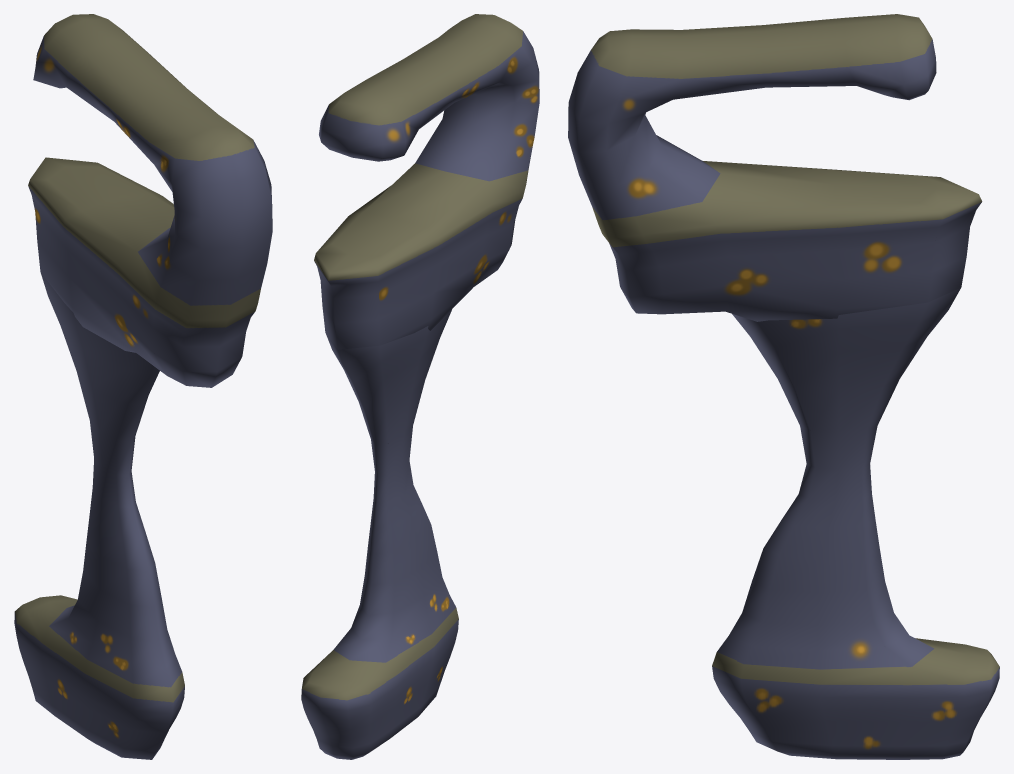
Rendered from Platforms.glb.
3 renders of one model, left to right at view 1: azimuth 30°, elevation 25°; view 2: azimuth 150°, elevation 25°; view 3: azimuth 270°, elevation 25°, orthographic. The views are drawn at different scales.
Parts seen in each view (by area): view 1: OverhangPlatform, LongHangingPlatformWithLedgeAtBase, BasePlatform; view 2: OverhangPlatform, LongHangingPlatformWithLedgeAtBase, BasePlatform; view 3: OverhangPlatform, LongHangingPlatformWithLedgeAtBase, BasePlatform.
Boxes of the visible parts, <box> form: OverhangPlatform: <box>28,14,272,387</box>; LongHangingPlatformWithLedgeAtBase: <box>14,272,184,759</box>; BasePlatform: <box>30,157,100,180</box>; OverhangPlatform: <box>316,14,539,346</box>; LongHangingPlatformWithLedgeAtBase: <box>301,309,458,759</box>; BasePlatform: <box>314,243,380,349</box>; OverhangPlatform: <box>568,14,942,321</box>; LongHangingPlatformWithLedgeAtBase: <box>712,288,999,759</box>; BasePlatform: <box>919,176,982,302</box>.
Bounding box in the file's own units: 2.79 × 17.97 × 9.6.
3 materials, 3 textured.
